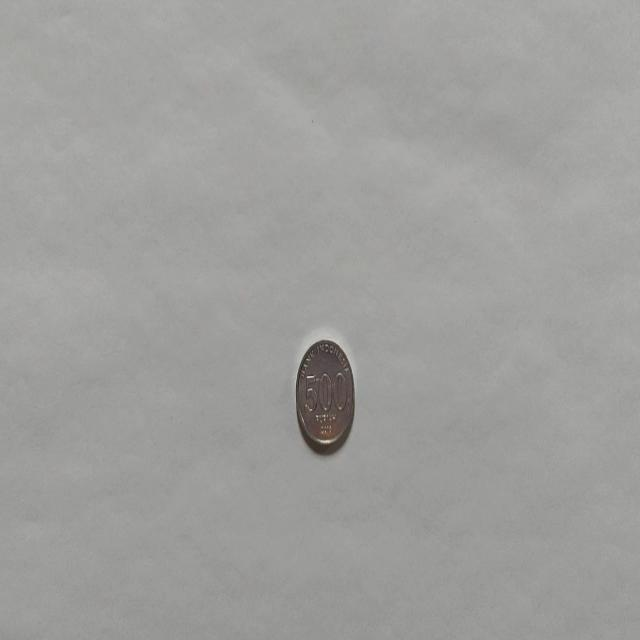lima ratus rupiah: (294, 336, 356, 452)
